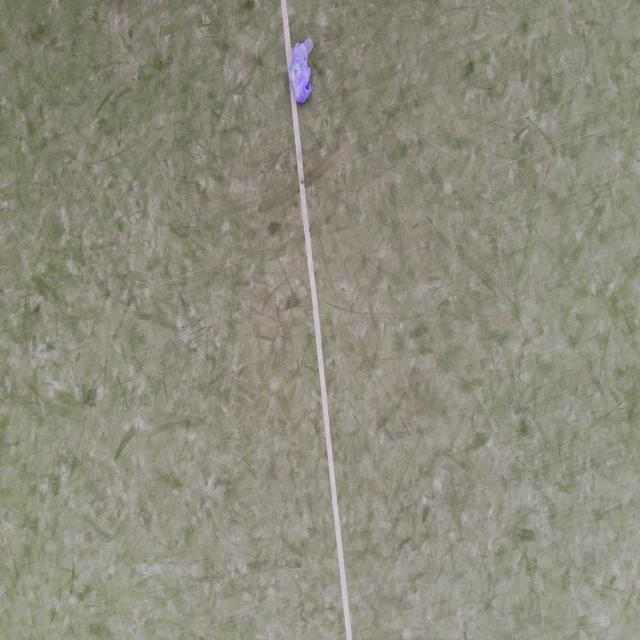rubbish: (288, 37, 314, 103)
